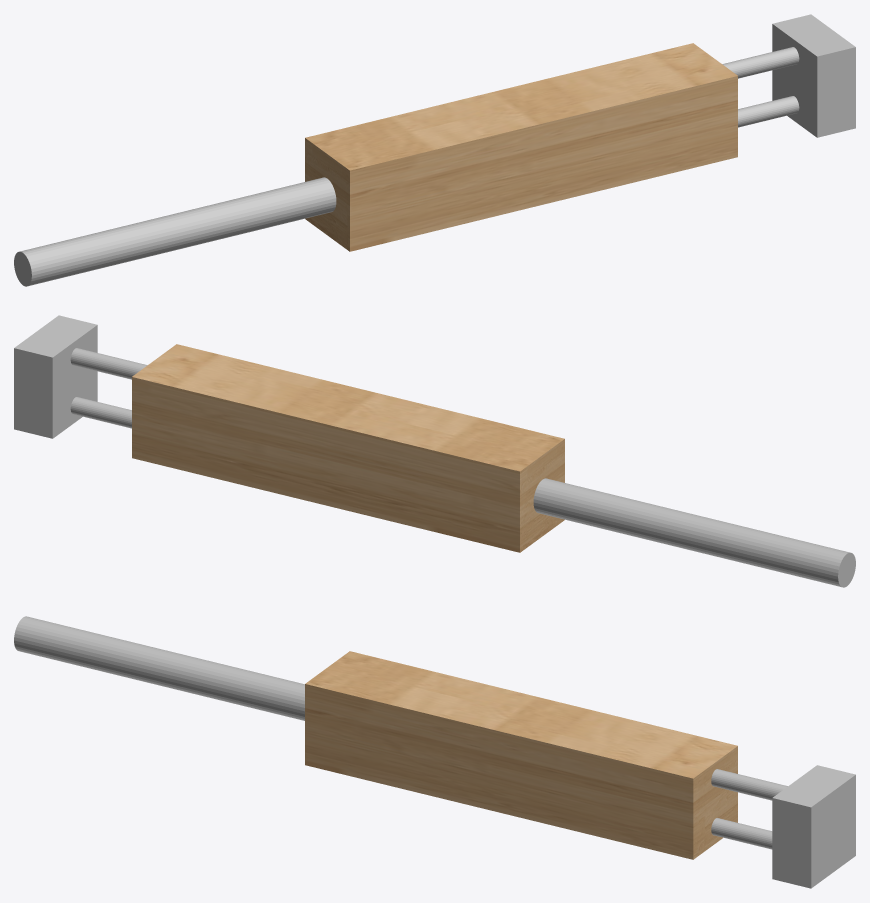
The model's file is gun_update.obj.
3 renders of one model, top to bottom at view 1: azimuth 30°, elevation 25°; view 2: azimuth 150°, elevation 25°; view 3: azimuth 330°, elevation 25°, orthographic.
Visible parts, largest first — view 1: Cube.001_Cube.002, Cylinder, Cube_Cube.001, Cylinder.001, Cylinder.003; view 2: Cube.001_Cube.002, Cylinder, Cube_Cube.001, Cylinder.001, Cylinder.003; view 3: Cube.001_Cube.002, Cylinder, Cube_Cube.001, Cylinder.001, Cylinder.003.
Part boxes in pixels (<box>): Cube.001_Cube.002: <box>305,43,737,251</box>; Cylinder: <box>14,177,336,286</box>; Cube_Cube.001: <box>772,14,855,137</box>; Cylinder.001: <box>722,47,799,78</box>; Cylinder.003: <box>738,96,799,127</box>; Cube.001_Cube.002: <box>132,344,564,552</box>; Cylinder: <box>533,478,855,587</box>; Cube_Cube.001: <box>14,315,97,438</box>; Cylinder.001: <box>70,348,147,379</box>; Cylinder.003: <box>70,397,131,428</box>; Cube.001_Cube.002: <box>305,651,737,859</box>; Cylinder: <box>14,616,304,720</box>; Cube_Cube.001: <box>772,765,855,888</box>; Cylinder.001: <box>711,769,787,800</box>; Cylinder.003: <box>711,818,772,849</box>.
Size of the model in its own units: 20.88 by 2 by 2.
4 materials, 1 textured.
